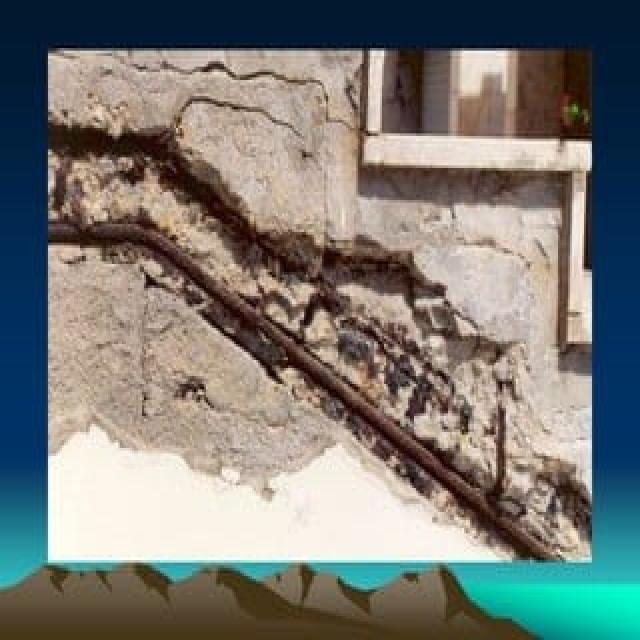Spalling: (49, 51, 596, 562)
corrosion: (48, 224, 560, 562)
